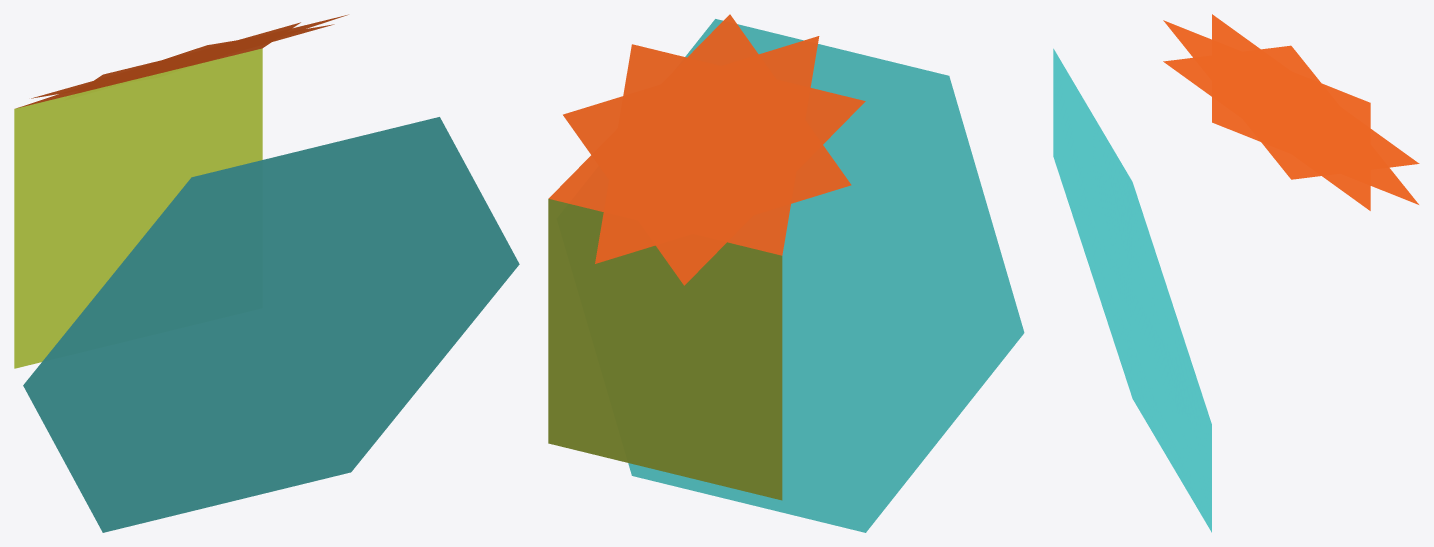
The model's file is GreatTruncatedIcosidodecahedronF.obj.
3 renders of one model, left to right at view 1: azimuth 30°, elevation 25°; view 2: azimuth 150°, elevation 25°; view 3: azimuth 270°, elevation 25°, orthographic. The views are drawn at different scales.
Bounding box in the file's own units: 2 × 1.88 × 1.43.
